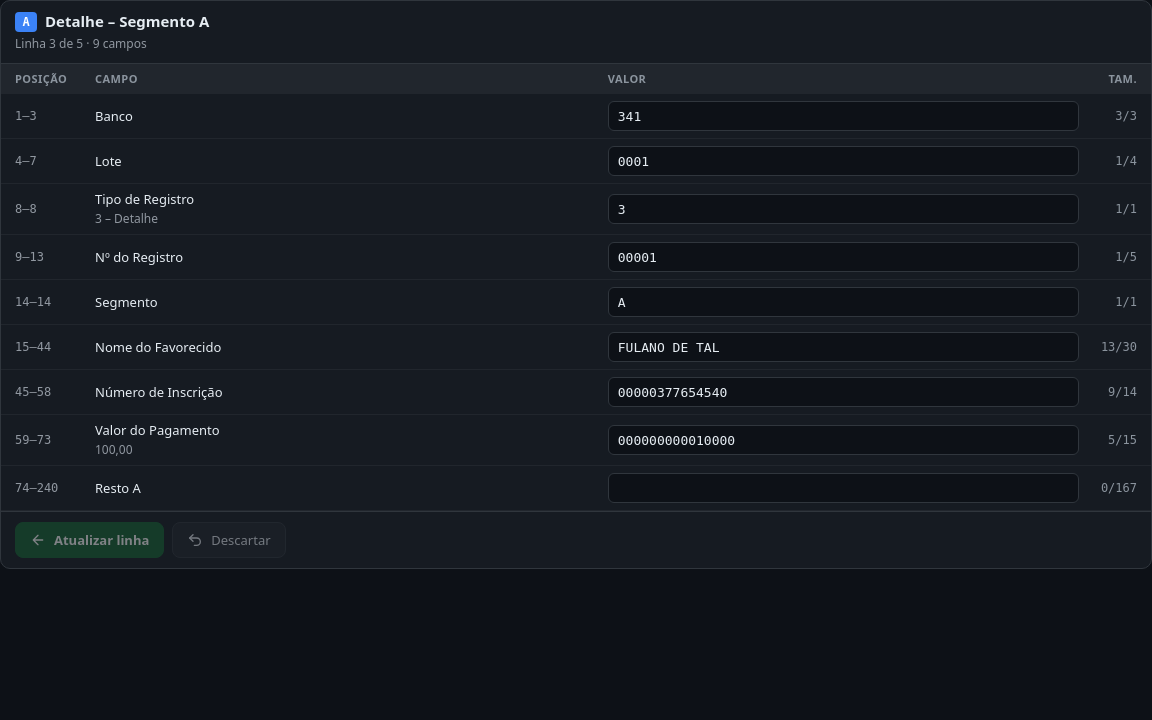
Test: EditPane (edição) › Atualizar linha reescreve só o campo editado
The width and height of the screenshot is (1152, 720).
Step 1. Replace the text in the field labelled "Valor do Pagamento" with "25" → (843,440), box [608,425,1079,455]
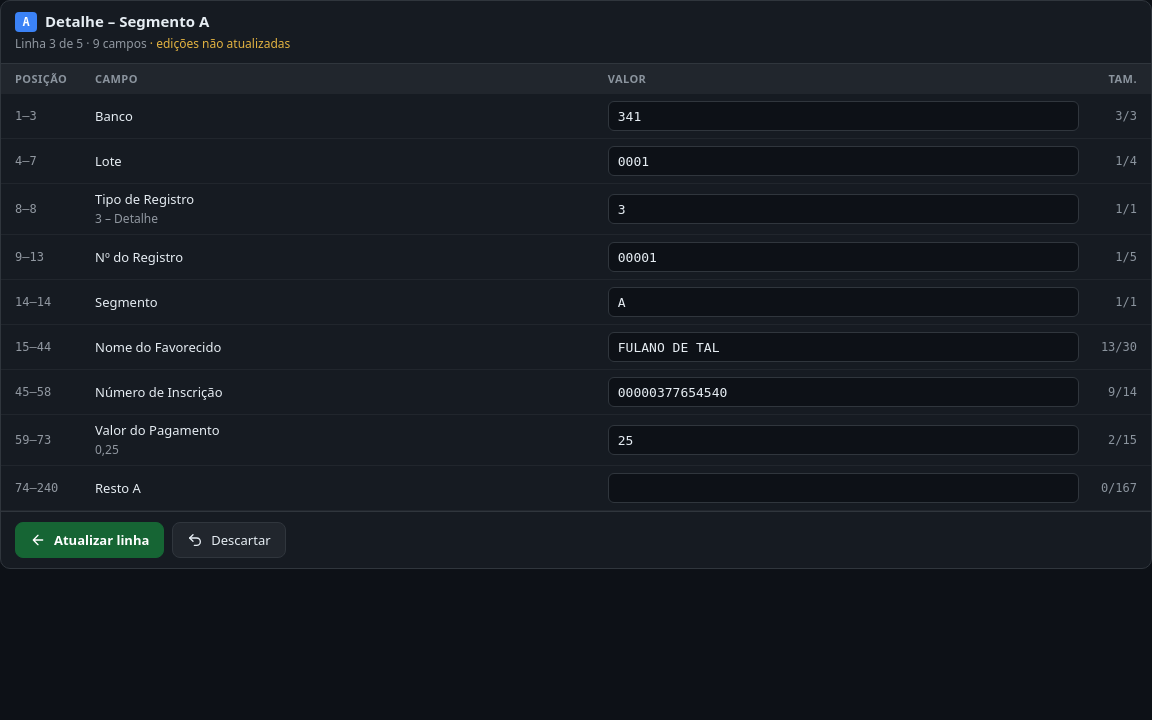
Step 2. Click the button with test id "update-line" → (90,540), box [15,522,164,558]
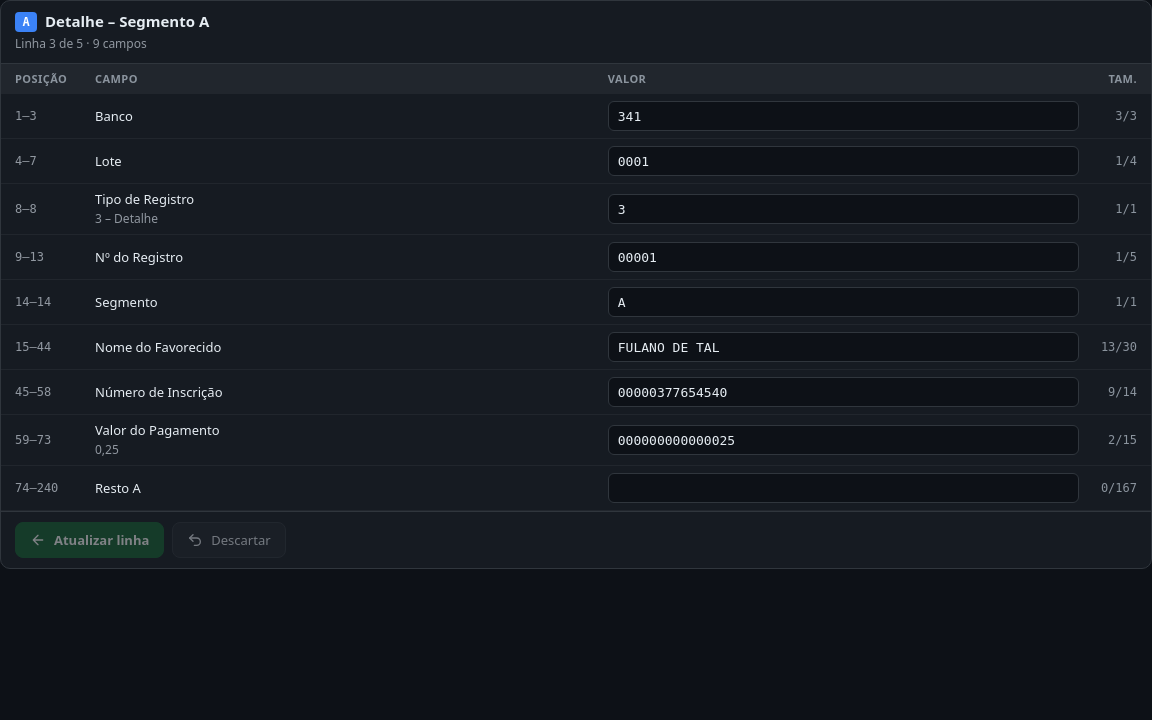
Now the field labelled "Valor do Pagamento" holds "000000000000025", box [608,425,1079,455]
